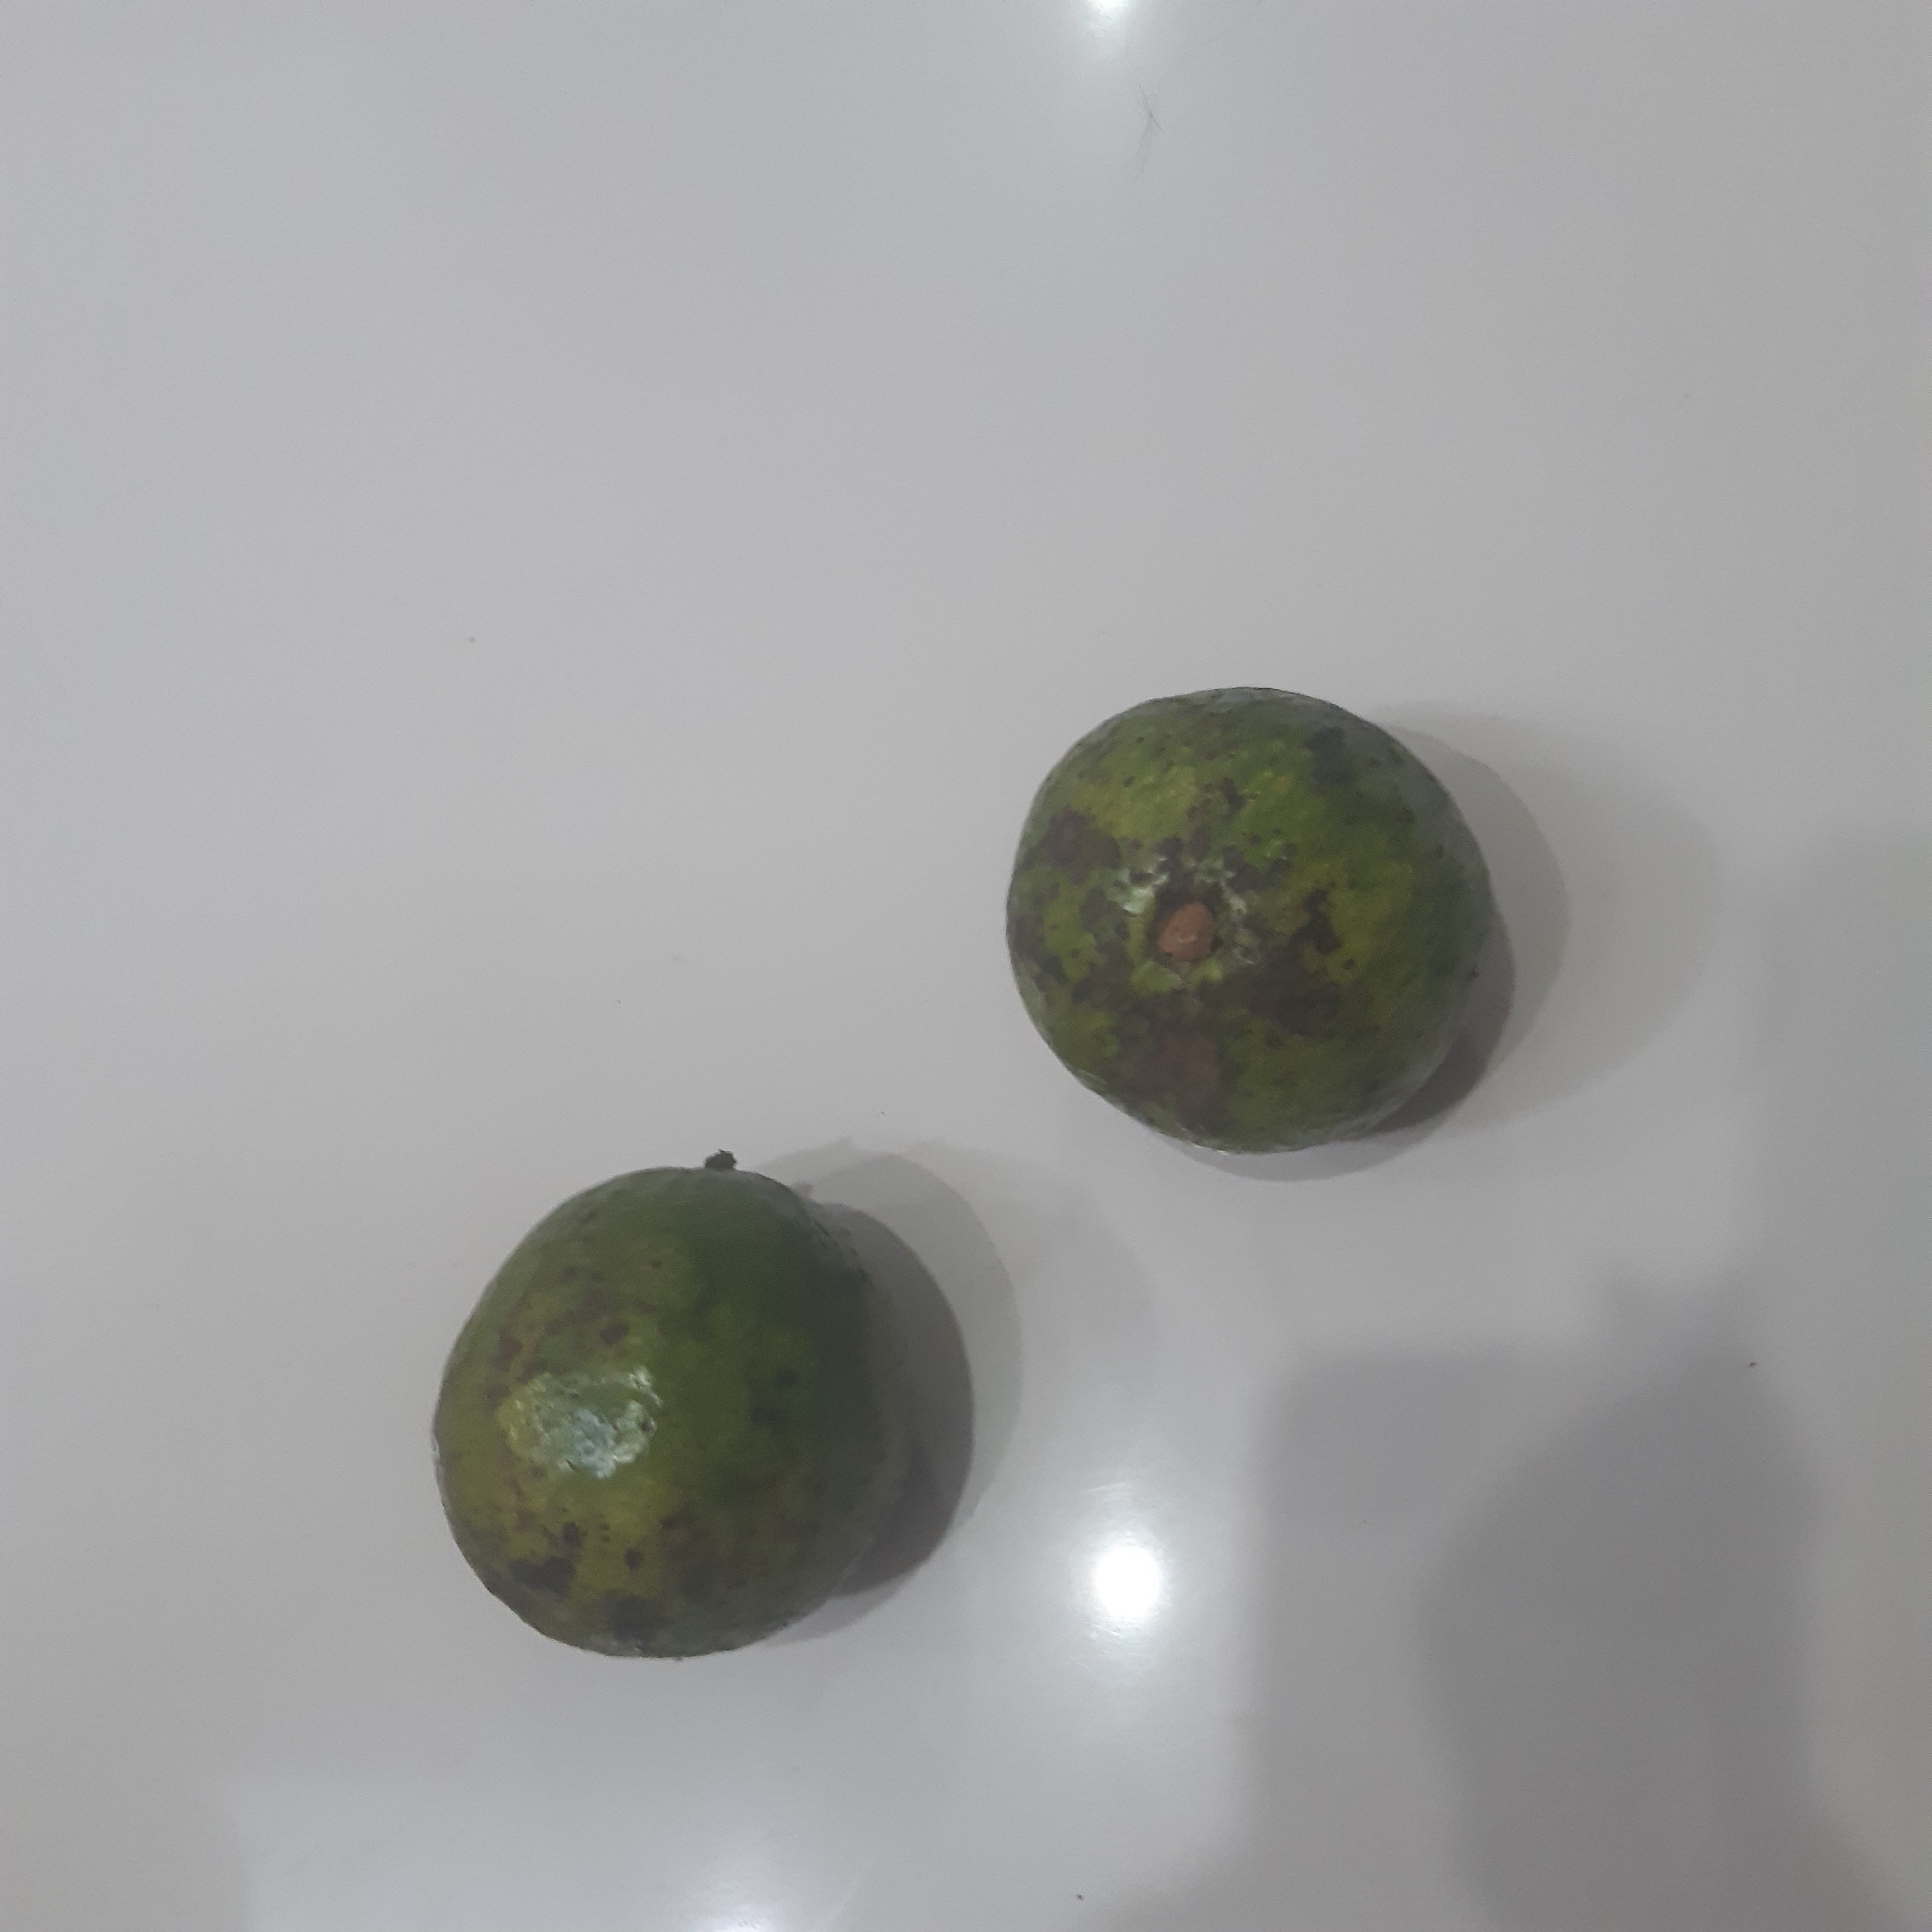Bo: (425, 1161, 906, 1663), (1000, 683, 1497, 1159)
